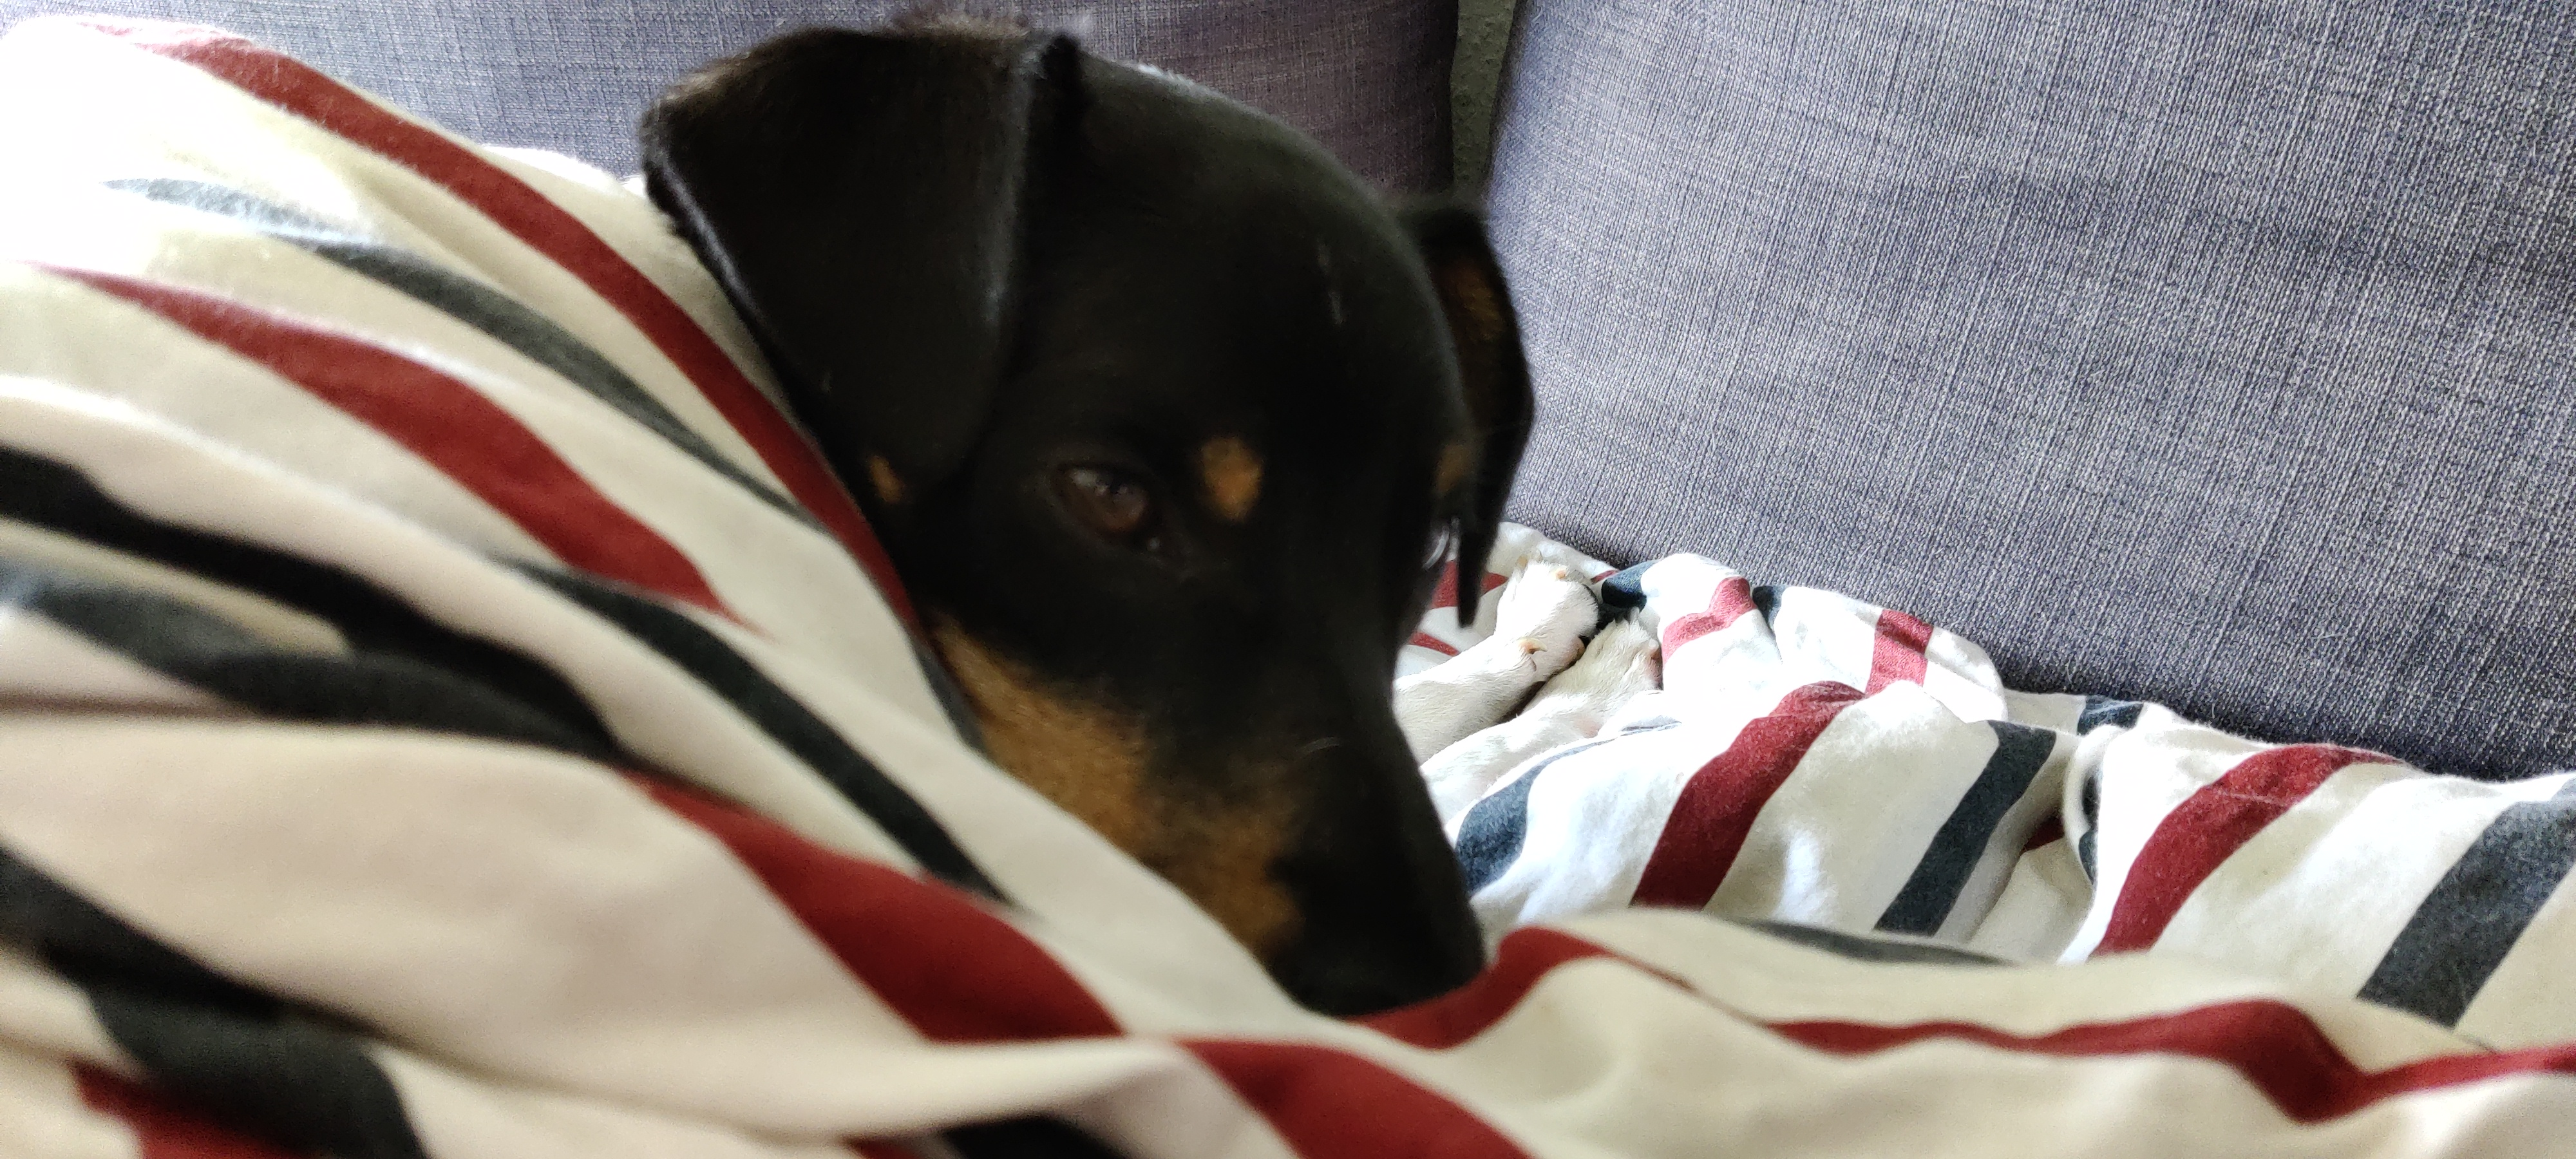Dog: (619, 5, 1541, 1026)
